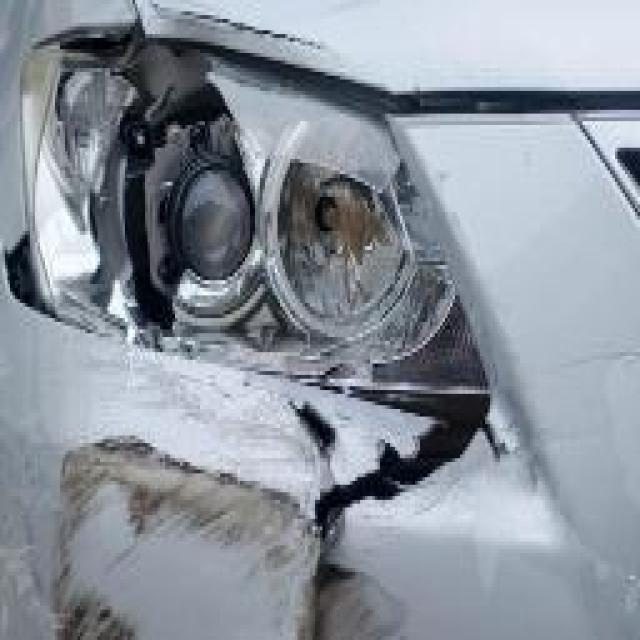Bumper: (0, 310, 640, 640)
Light: (2, 38, 496, 414)
